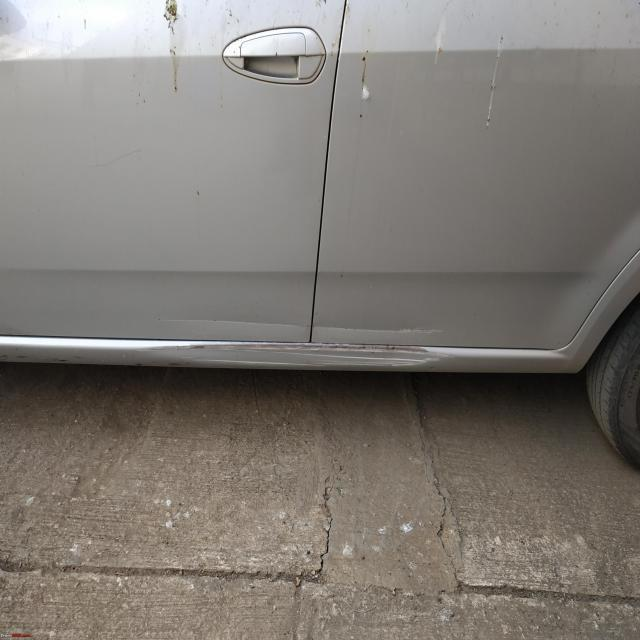RunningBoard-Dent: (141, 316, 438, 378)
doorouter-dent: (2, 3, 314, 340), (313, 0, 584, 348)
